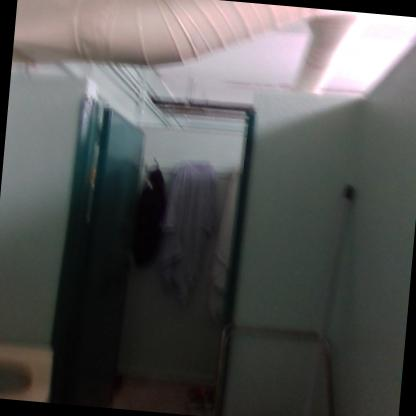open: (32, 67, 267, 415)
